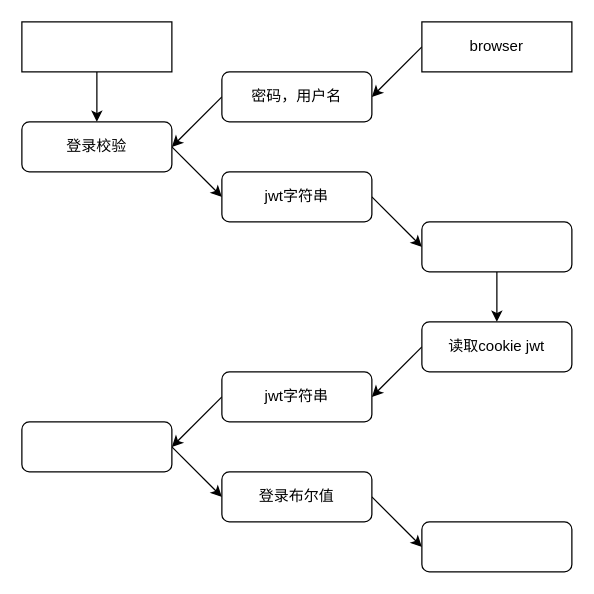
Some shapes in this 594 by 594 pixel diagram are drawn without their labels. Here are the shapes that lost their labels. From the top down, the box of each, then its label:
(21, 21, 172, 72): server
(421, 221, 572, 272): 写入cookie
(21, 421, 172, 472): jwt校验
(421, 521, 572, 572): 相应操作
